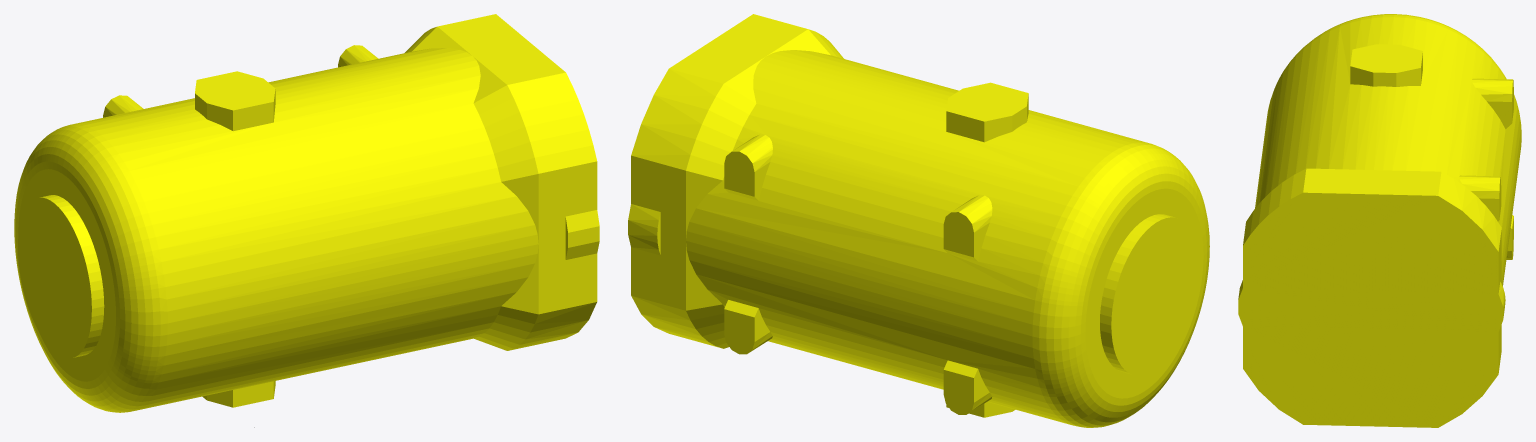
3 renders of one model, left to right at view 1: azimuth 30°, elevation 25°; view 2: azimuth 150°, elevation 25°; view 3: azimuth 270°, elevation 25°, orthographic. The views are drawn at different scales.
Parts seen in each view (by area): view 1: node; view 2: node; view 3: node.
Part boxes in pixels (x1,y1,x2,y2): node: (14, 14, 599, 427); node: (628, 14, 1209, 427); node: (1238, 14, 1521, 427).
Size of the model in its own units: 539 by 351 by 321.
